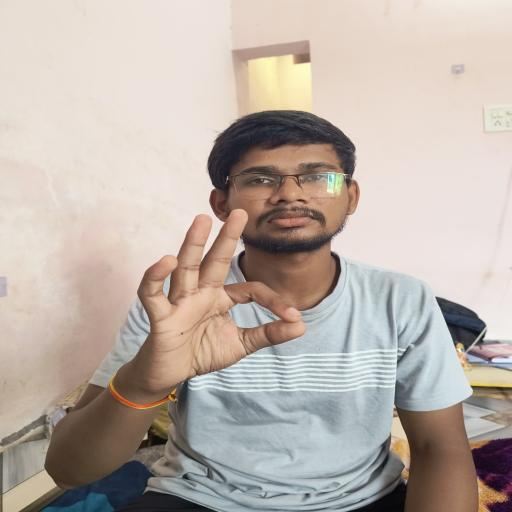Previous: (119, 199, 328, 385)
